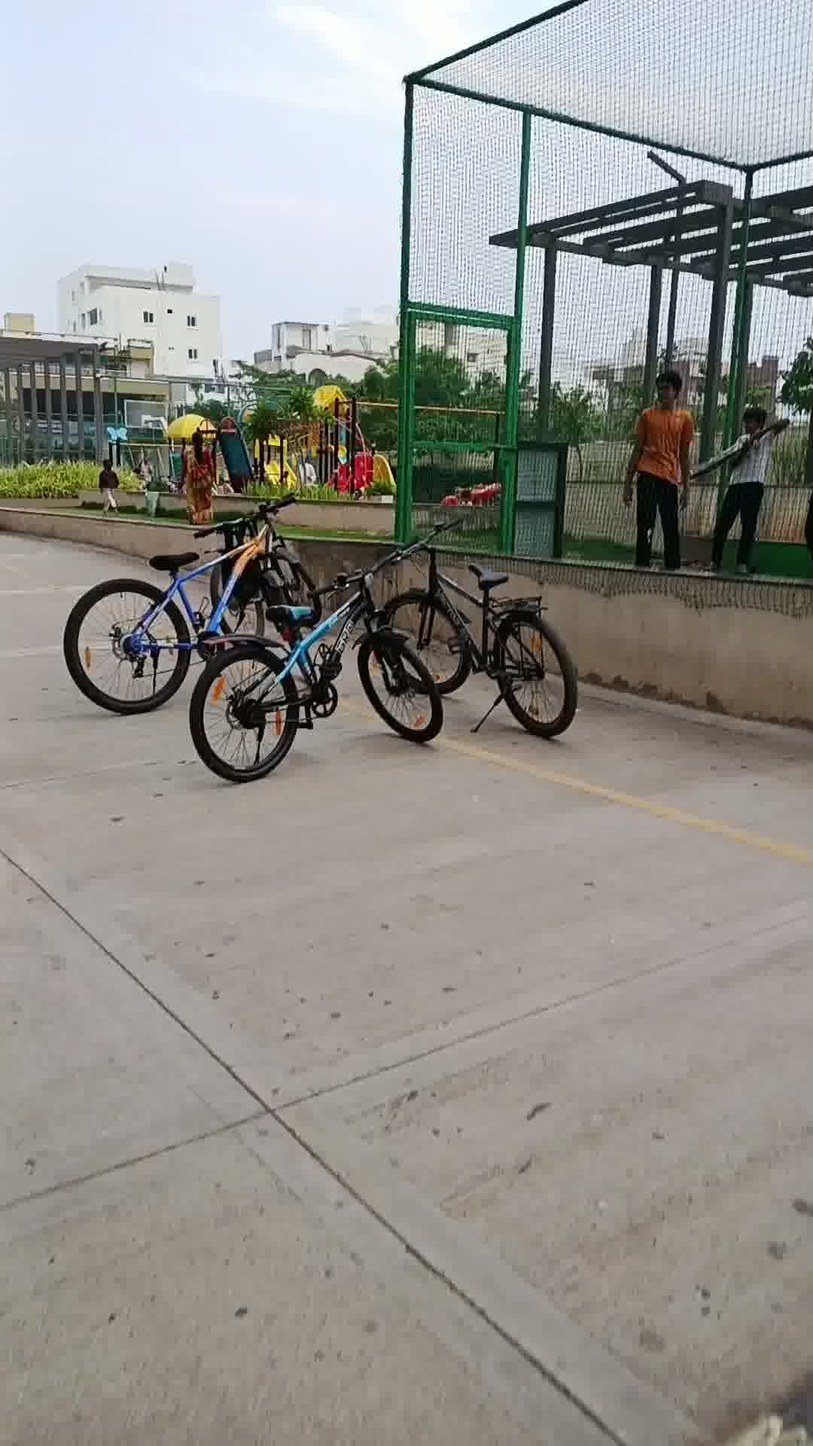bicycle: (176, 581, 438, 786), (381, 512, 600, 749), (46, 541, 327, 686)
person: (623, 339, 694, 592), (717, 387, 777, 595), (165, 407, 225, 532), (95, 447, 129, 528)
